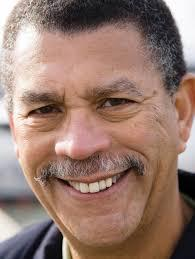normalMouth: (49, 166, 136, 203)
